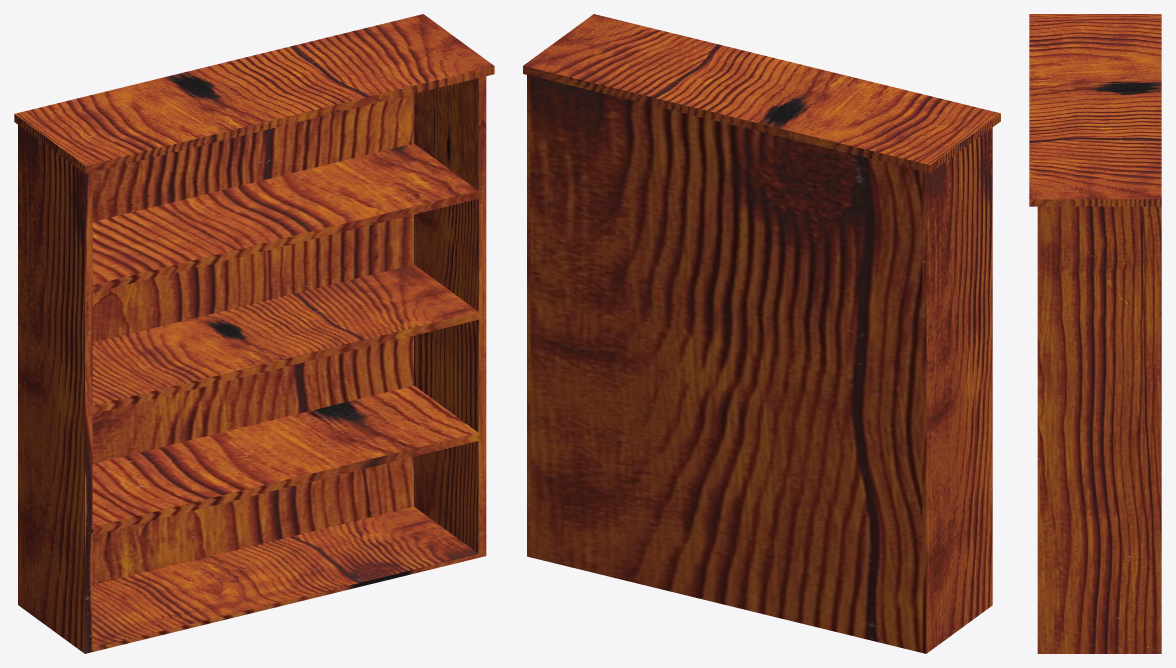
The model's file is modi4_desk.obj.
3 views of the same model, side by side, from view 1: azimuth 30°, elevation 25°; view 2: azimuth 150°, elevation 25°; view 3: azimuth 270°, elevation 25° (orthographic). The views are drawn at different scales.
Visible parts, largest first — view 1: Default.001; view 2: Default.001; view 3: Default.001.
Boxes of the visible parts, x1,y1,x2,y2 form: Default.001: (14,14,494,653); Default.001: (523,14,1000,653); Default.001: (1029,14,1161,653).
Size of the model in its own units: 5.74 by 6.6 by 1.73.
1 material, 1 textured.
